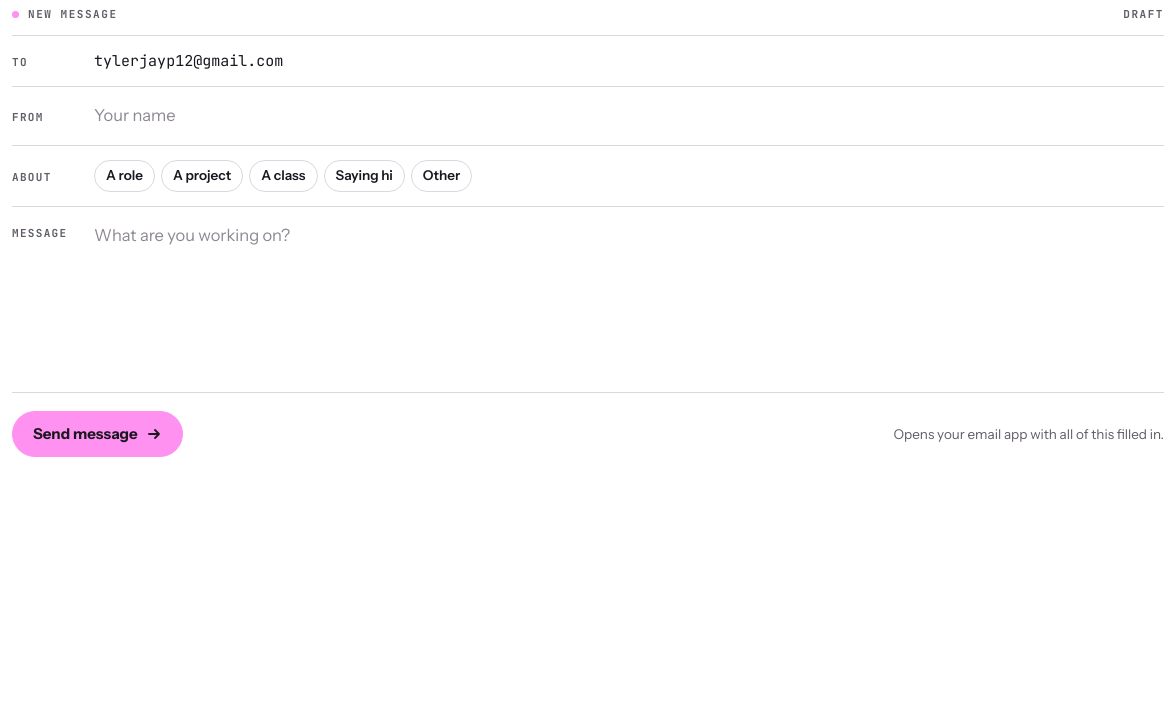
Test case: <MessageForm> › asks for a subject when the topic is Other
Expected: the field labelled "Subject" is not shown
Click the button "Other" at {"x": 442, "y": 176}, box [411,160,472,192]
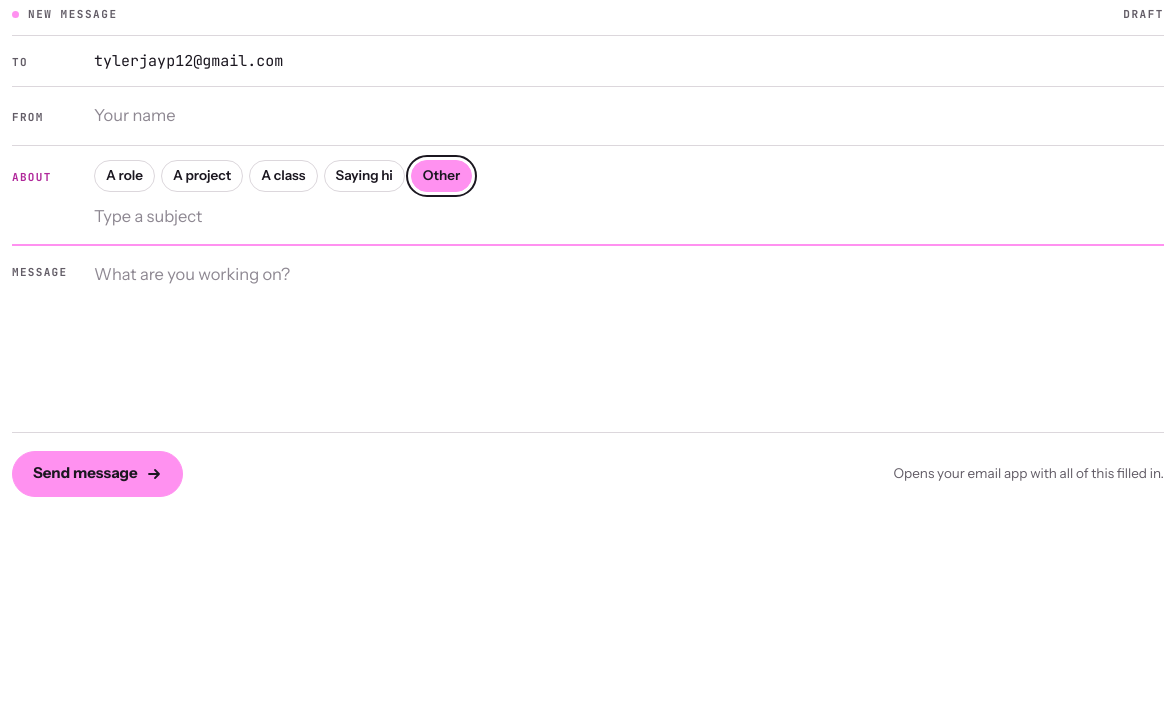
Expected: the field labelled "subject" is shown, [94,202,1164,231]
